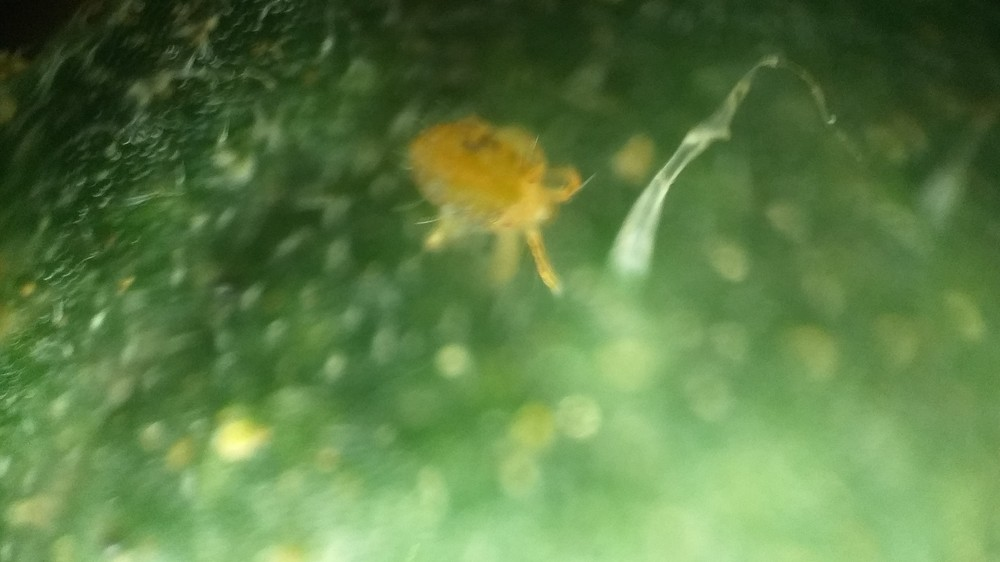Aracnido Rojo: (349, 92, 633, 341)
